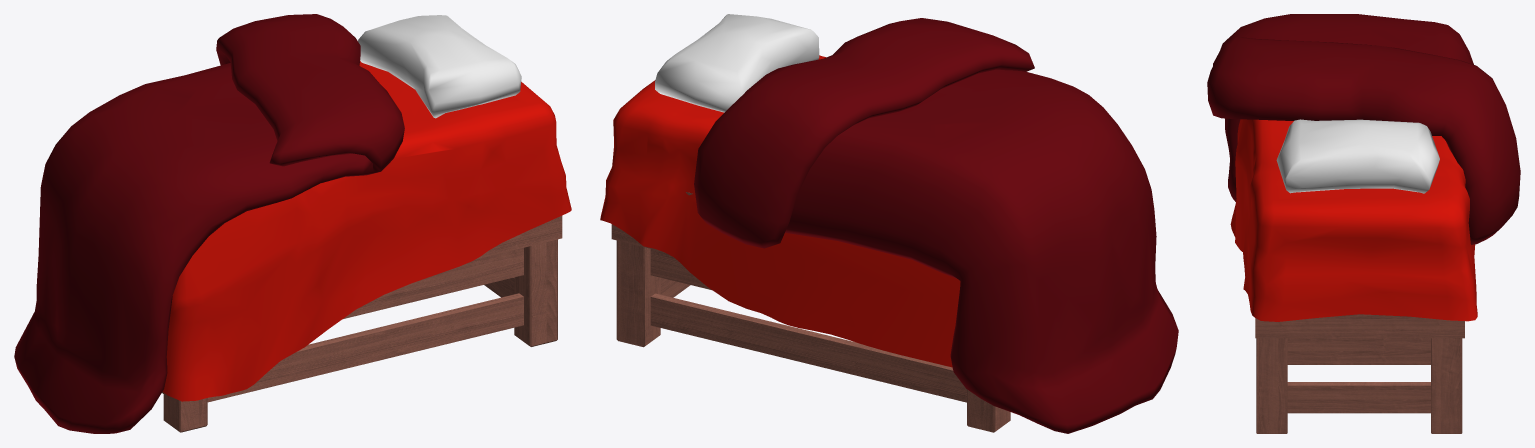
File: Bed.fbx
The picture shows the model from 3 angles, left to right: view 1: azimuth 30°, elevation 25°; view 2: azimuth 150°, elevation 25°; view 3: azimuth 270°, elevation 25°; orthographic projection. The views are drawn at different scales.
Visible parts, largest first — view 1: Plane.009, Cube.186, Cube.183, Cube.185; view 2: Plane.009, Cube.186, Cube.183, Cube.185; view 3: Plane.009, Cube.186, Cube.183, Cube.185.
Part boxes in pixels (x1,y1,x2,y2): Plane.009: [14, 14, 404, 433]; Cube.186: [162, 61, 571, 401]; Cube.183: [162, 216, 562, 432]; Cube.185: [358, 15, 521, 118]; Plane.009: [694, 18, 1178, 433]; Cube.186: [600, 55, 960, 367]; Cube.183: [611, 192, 1010, 432]; Cube.185: [655, 14, 819, 112]; Plane.009: [1207, 14, 1520, 244]; Cube.186: [1230, 119, 1477, 321]; Cube.183: [1255, 314, 1464, 433]; Cube.185: [1276, 119, 1439, 193].
Size of the model in its own units: 88.2 by 50.87 by 51.51.
